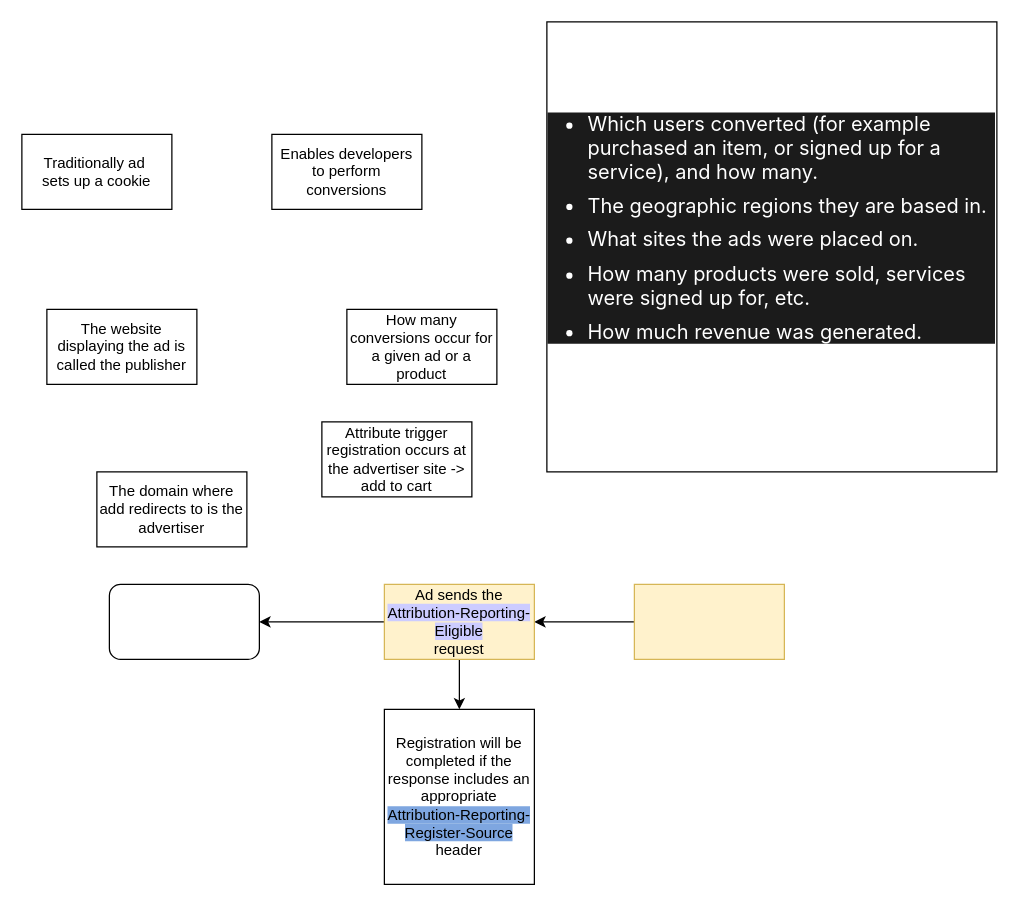
Image size: 1019x906. Some labels were removed from this diagram. The centre of each missing label's shape, as x and y in pixels:
Register an attribution source: point (708, 621)
response is eligible to register an attribution source.: point (183, 621)
